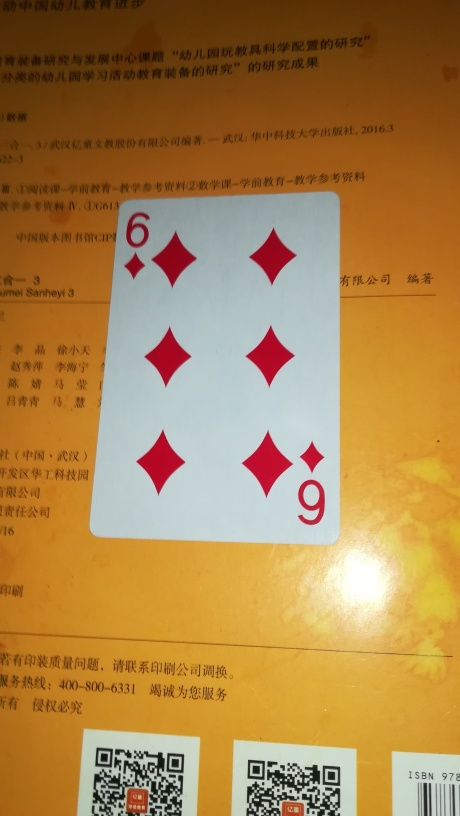fk 5: (87, 192, 344, 546)
